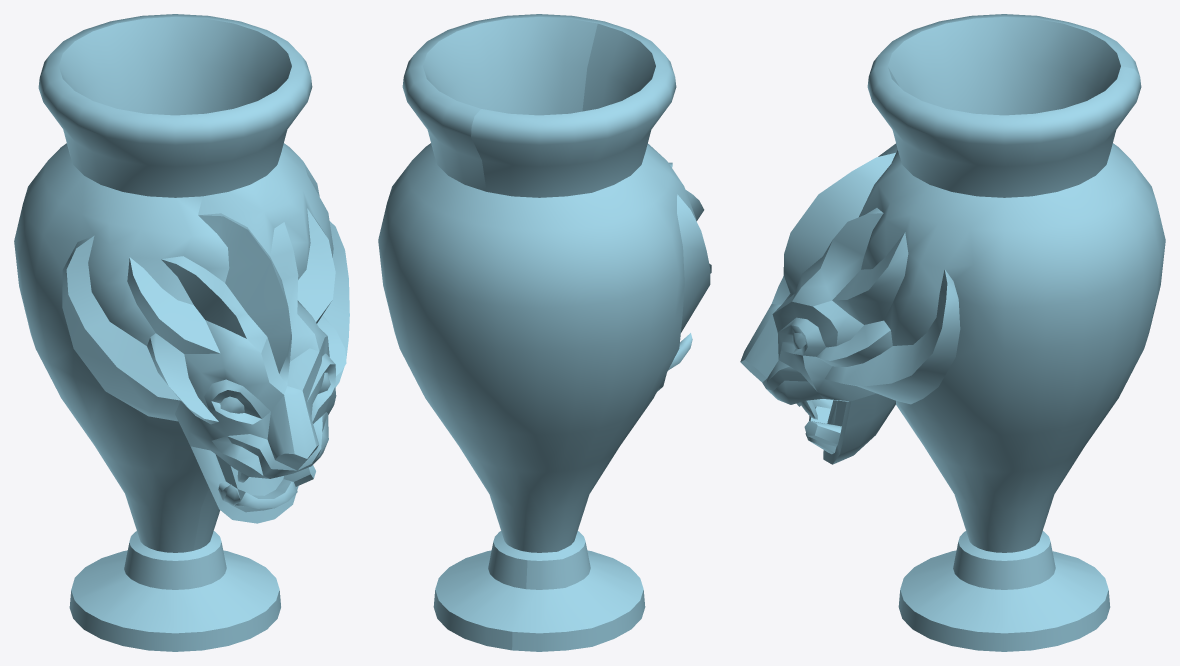
Rendered from SM_Lion_Cup_2.fbx.
3 views of the same model, side by side, from view 1: azimuth 30°, elevation 25°; view 2: azimuth 150°, elevation 25°; view 3: azimuth 270°, elevation 25° (orthographic).
Parts seen in each view (by area): view 1: SM_Lion_Cup_2; view 2: SM_Lion_Cup_2; view 3: SM_Lion_Cup_2.
Part boxes in pixels (x1,y1,x2,y2): SM_Lion_Cup_2: (14,14,349,651); SM_Lion_Cup_2: (378,14,711,651); SM_Lion_Cup_2: (740,14,1165,651).
Bounding box in the file's own units: 0.305 × 0.5652 × 0.4022.
